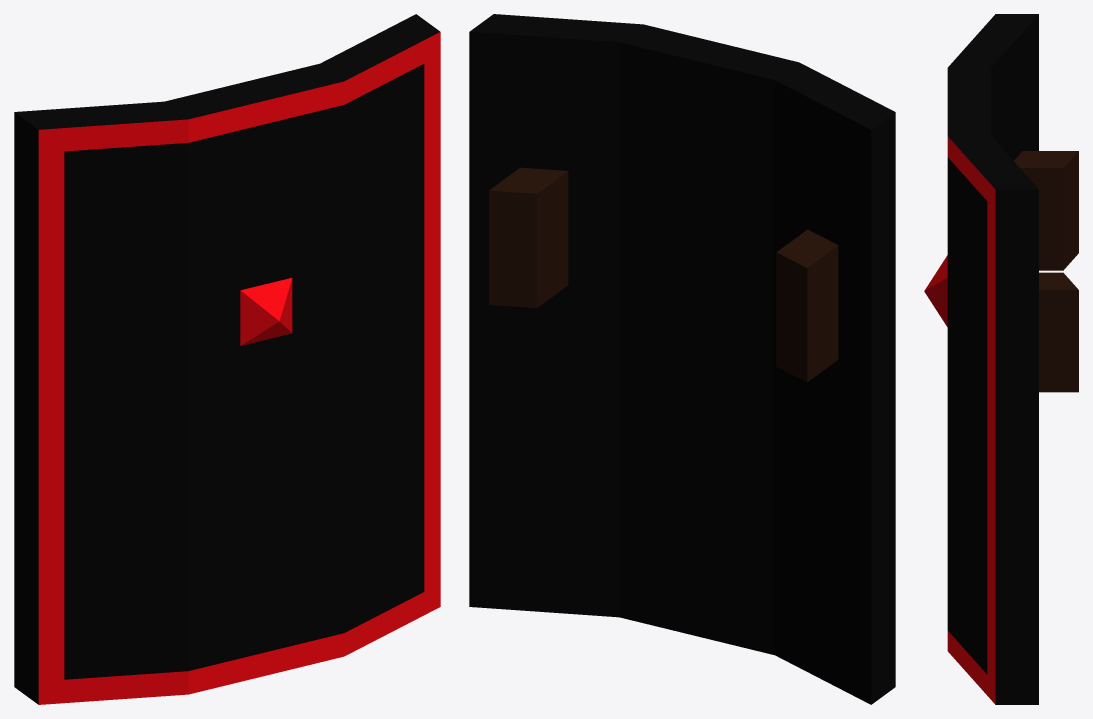
The model's file is BigShield.fbx.
The picture shows the model from 3 angles, left to right: view 1: azimuth 30°, elevation 25°; view 2: azimuth 150°, elevation 25°; view 3: azimuth 270°, elevation 25°; orthographic projection. The views are drawn at different scales.
Visible parts, largest first — view 1: Shield.002; view 2: Shield.002; view 3: Shield.002.
Part boxes in pixels (box(x1,y1,x2,y2)): Shield.002: box(14, 14, 440, 704); Shield.002: box(469, 14, 895, 704); Shield.002: box(924, 14, 1078, 704).
Bounding box in the file's own units: 3.52 × 1.31 × 4.81.
